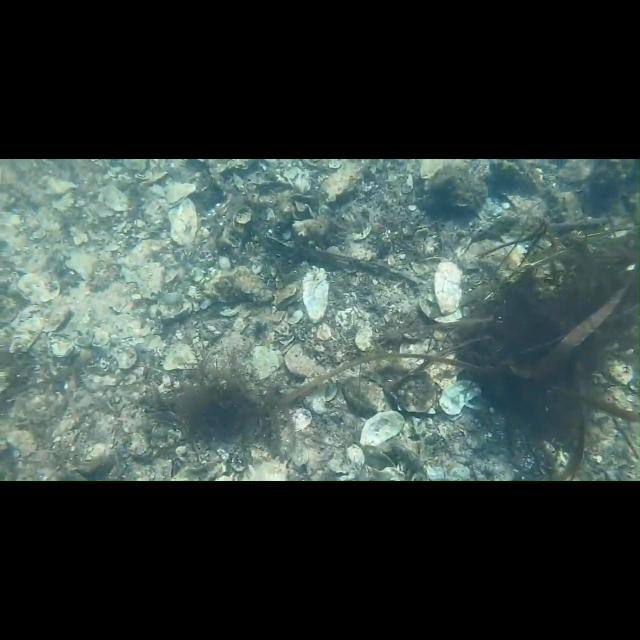Oyster-Closed: (422, 166, 486, 218), (584, 160, 622, 216), (344, 378, 391, 418), (396, 371, 438, 412), (321, 161, 360, 202), (329, 444, 370, 481), (18, 272, 60, 304), (76, 442, 114, 474), (234, 275, 272, 302), (164, 344, 198, 370), (111, 346, 138, 368), (50, 335, 75, 358)
Oyster-Open: (434, 261, 462, 322), (360, 410, 405, 446), (302, 266, 329, 324), (169, 199, 198, 245), (274, 282, 299, 306)
